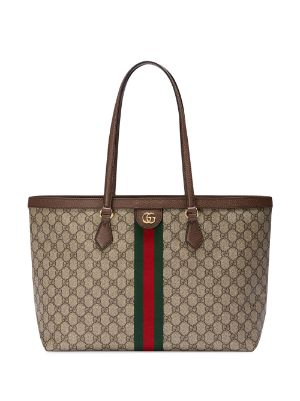Gucci: (16, 180, 283, 366), (121, 185, 192, 359), (198, 223, 257, 333), (135, 207, 167, 232)
